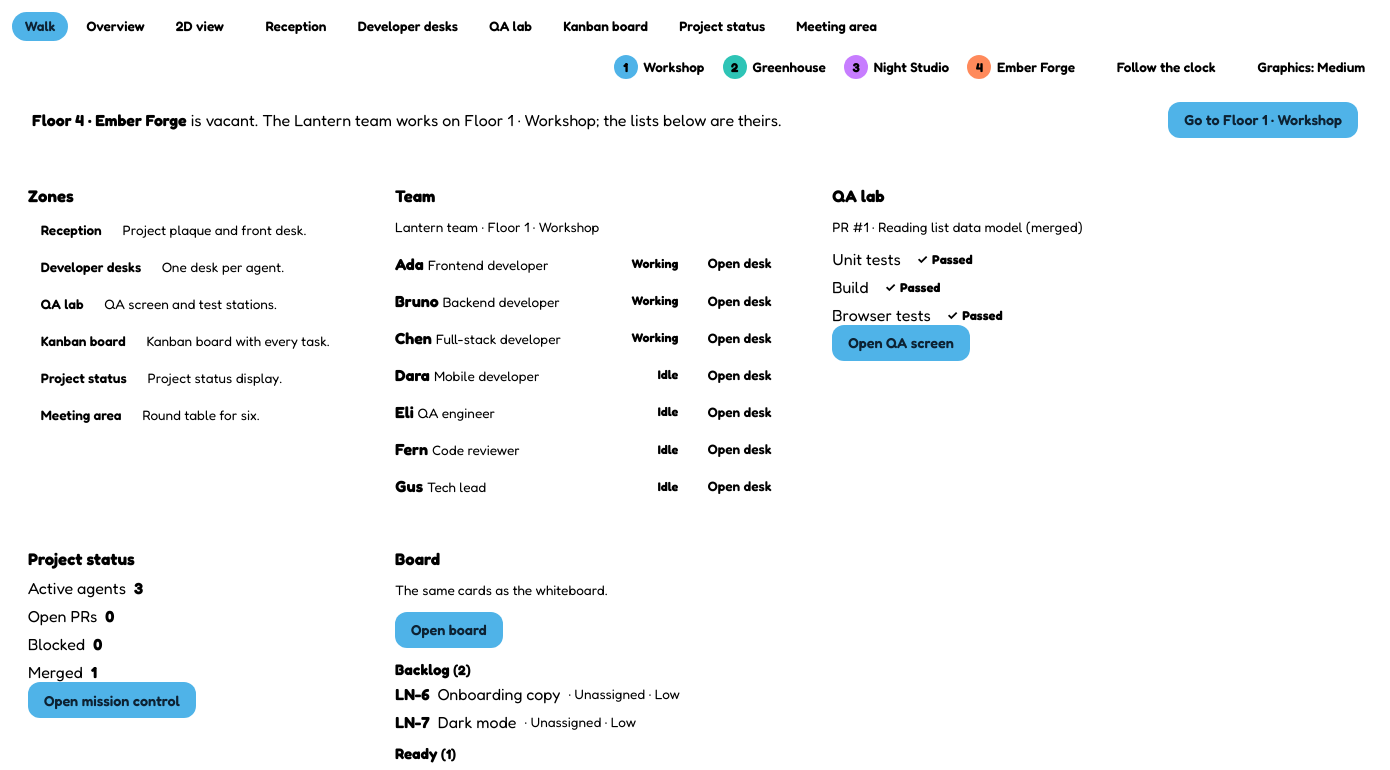
floors and the elevator › explains a vacant floor in the 2D view and offers the way back
Expected: the text "is vacant" shows "Floor 4 · Ember Forge is vacant", 32,110 -> 781,130
Click the button "Go to Floor 1 · Workshop".
click(1263, 120)  # box 1168,102 -> 1358,138
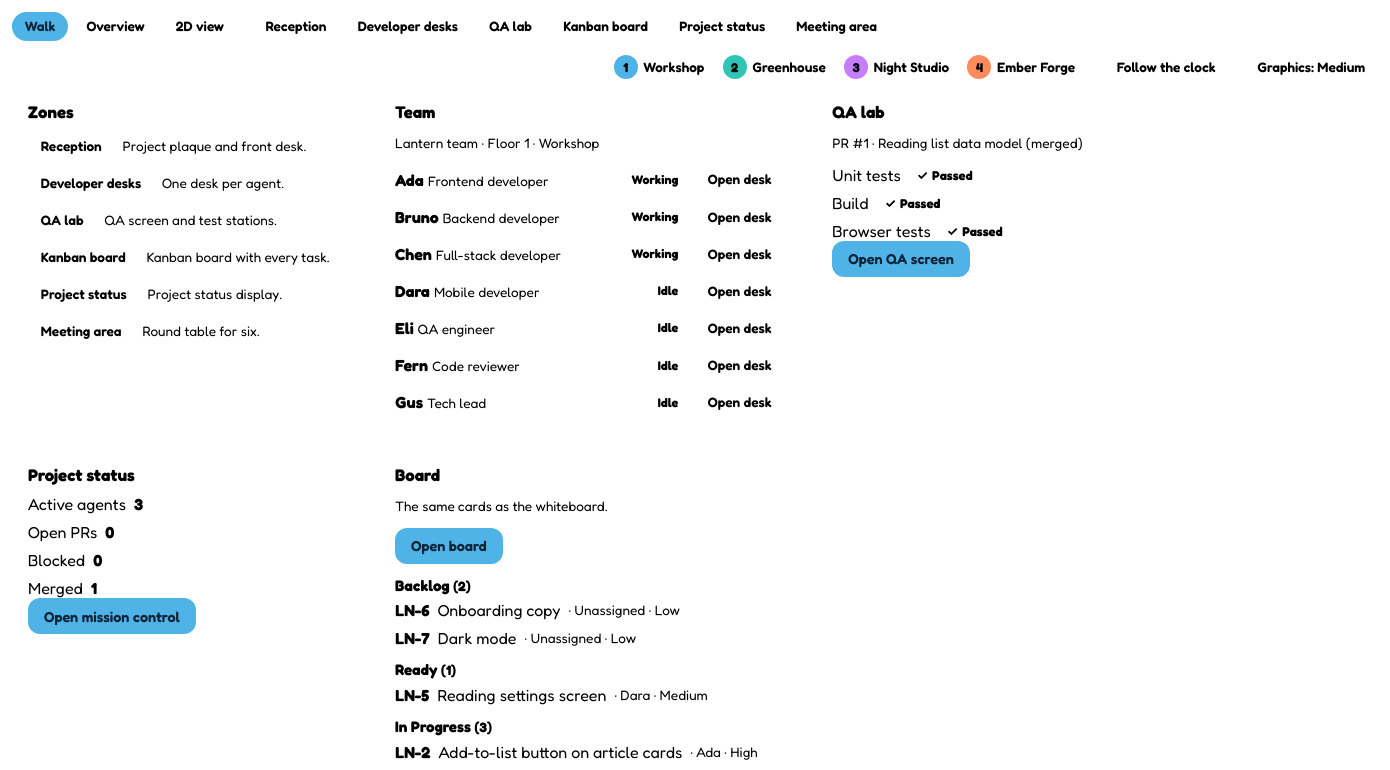
Now the text "is vacant" is gone
